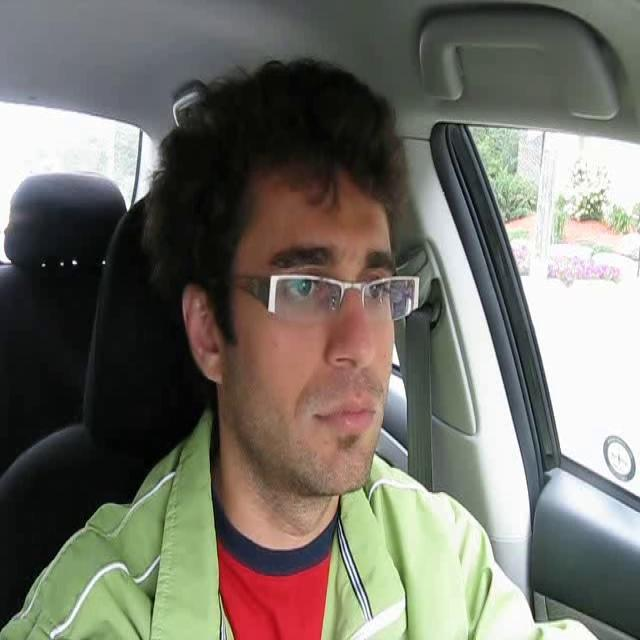close: (313, 390, 380, 437)
